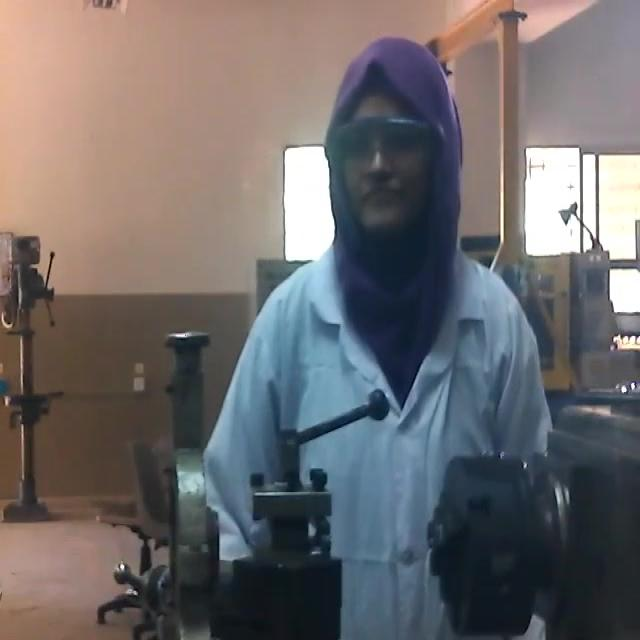googles: (328, 113, 438, 177)
labcoat: (201, 226, 553, 640)
